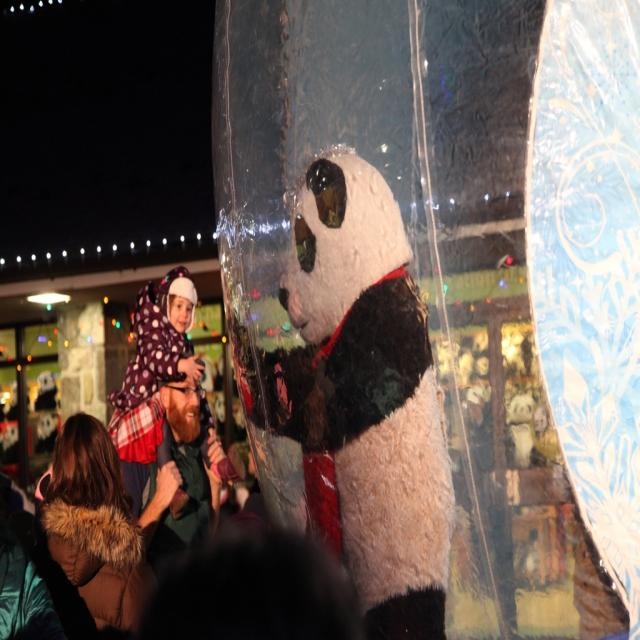panda: (224, 141, 455, 639), (499, 394, 543, 470), (34, 412, 62, 453), (33, 370, 60, 410), (2, 376, 30, 413), (0, 428, 20, 466)
